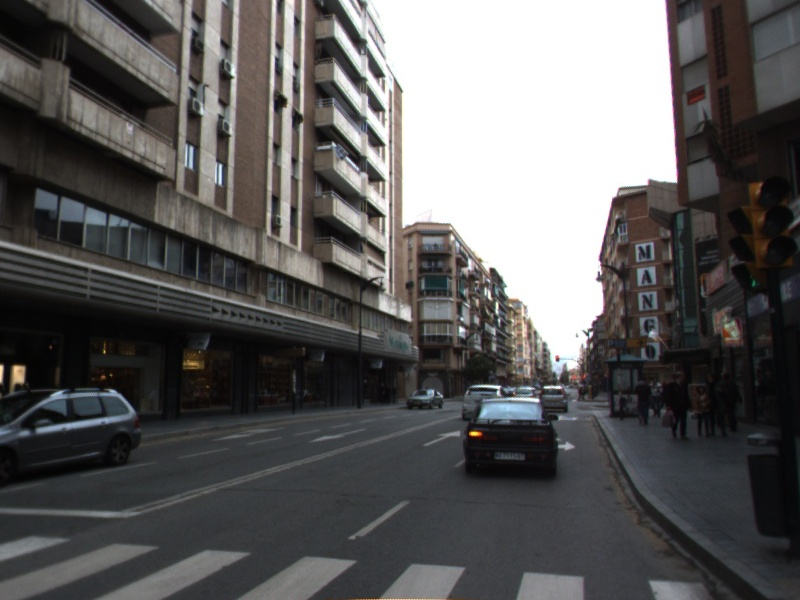STRAIGHT: (421, 428, 462, 448)
